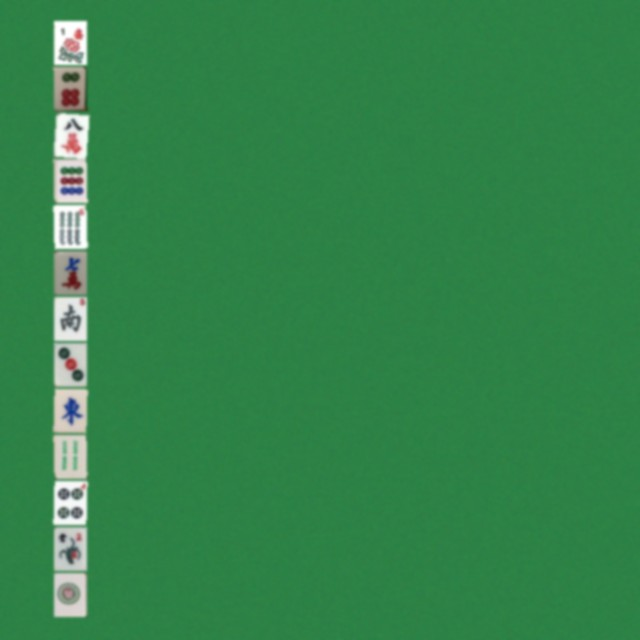tile: (53, 20, 86, 64), (53, 66, 86, 110), (53, 112, 86, 156), (53, 158, 86, 202), (53, 204, 86, 248), (53, 250, 86, 294), (53, 296, 86, 340), (53, 342, 86, 386), (53, 388, 86, 432), (53, 434, 86, 478), (53, 480, 86, 524), (53, 526, 86, 570), (53, 572, 86, 616)
